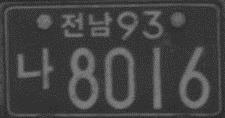0: (104, 47, 136, 109)
1: (149, 45, 165, 111)
3: (142, 9, 163, 40)
6: (179, 45, 211, 110)
8: (68, 45, 98, 110)
9: (116, 9, 140, 43)
나: (17, 45, 54, 90)
전남_O: (60, 10, 112, 39)
